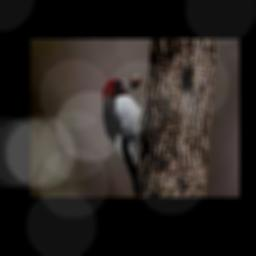Woodpecker: (102, 74, 145, 195)
